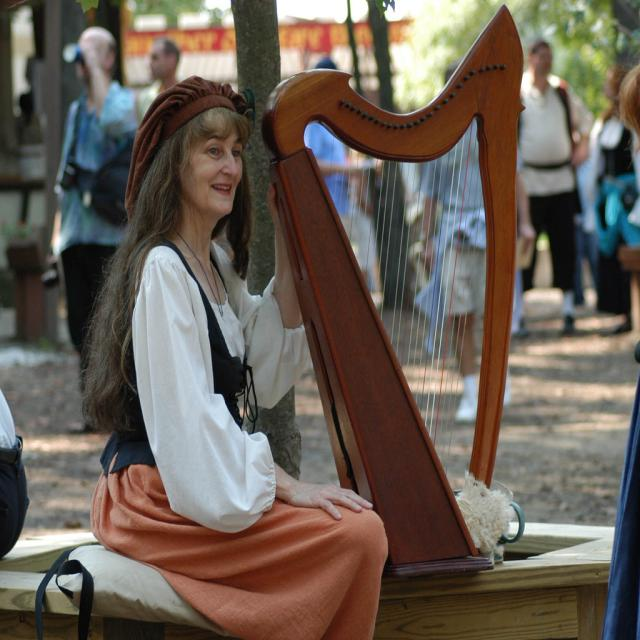harp: (260, 2, 530, 568)
